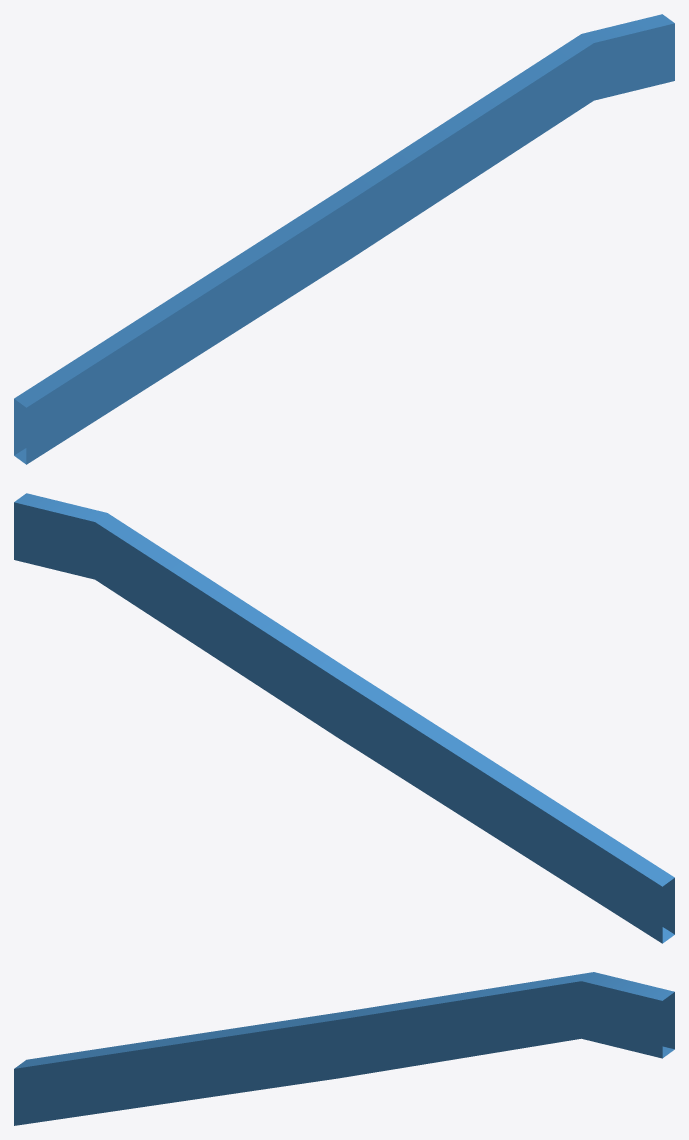
The model's file is Deco_Fence_Base_Incline.fbx.
The picture shows the model from 3 angles, top to bottom: view 1: azimuth 30°, elevation 25°; view 2: azimuth 150°, elevation 25°; view 3: azimuth 330°, elevation 25°; orthographic projection.
Visible parts, largest first — view 1: Deco_Fence_Base_Incline; view 2: Deco_Fence_Base_Incline; view 3: Deco_Fence_Base_Incline.
Part boxes in pixels (x1=…): Deco_Fence_Base_Incline: x1=14, y1=14, x2=674, y2=464; Deco_Fence_Base_Incline: x1=14, y1=493, x2=674, y2=943; Deco_Fence_Base_Incline: x1=14, y1=972, x2=674, y2=1125.
Size of the model in its own units: 900 by 376 by 30.
